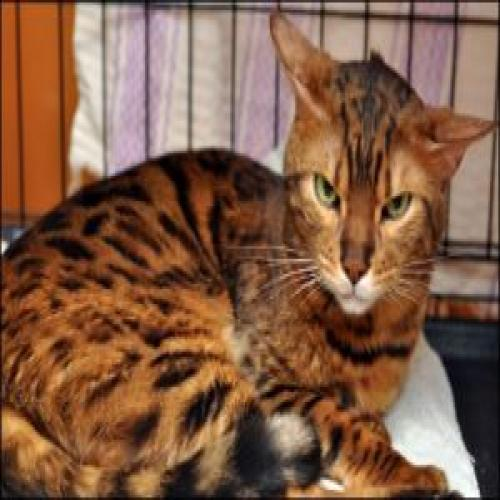bengal: (261, 6, 500, 326)
